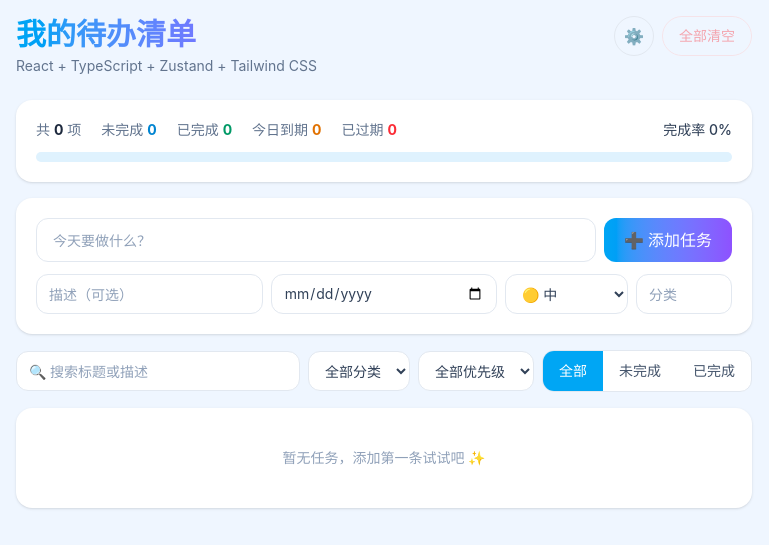
Test: App 主流程（规格 1/6） › 添加 → 勾选完成 → 统计与删除线联动
Type "买牛奶" into the field named "任务标题". click: (316, 240)
box: left=36, top=218, right=596, bottom=262
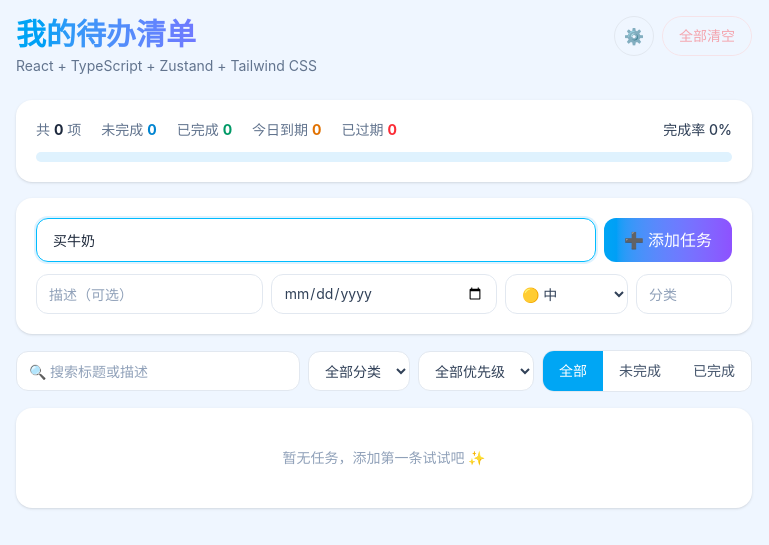
Click the button "➕ 添加任务". click: (668, 240)
box: left=604, top=218, right=732, bottom=262
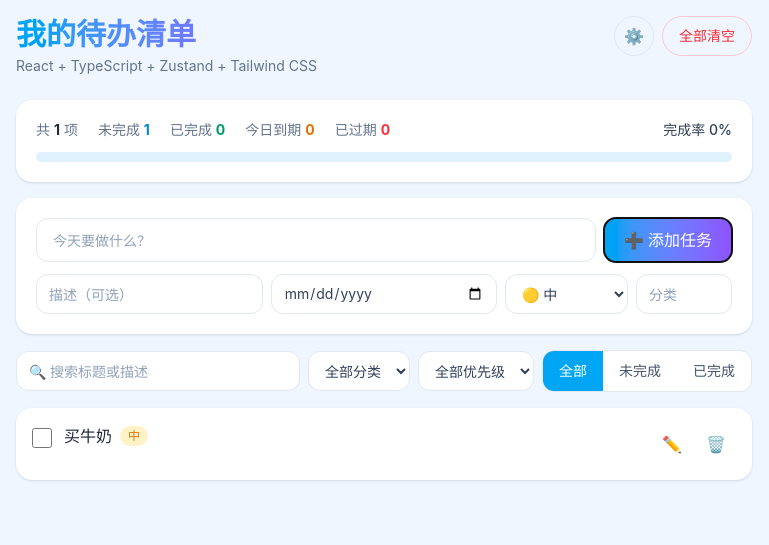
Expected: the heading "买牛奶" is shown, left=64, top=424, right=112, bottom=448
Expected: the text "共 1 项" is shown, left=36, top=120, right=78, bottom=140
Click the checkbox. click: (42, 438)
box: left=32, top=428, right=52, bottom=448
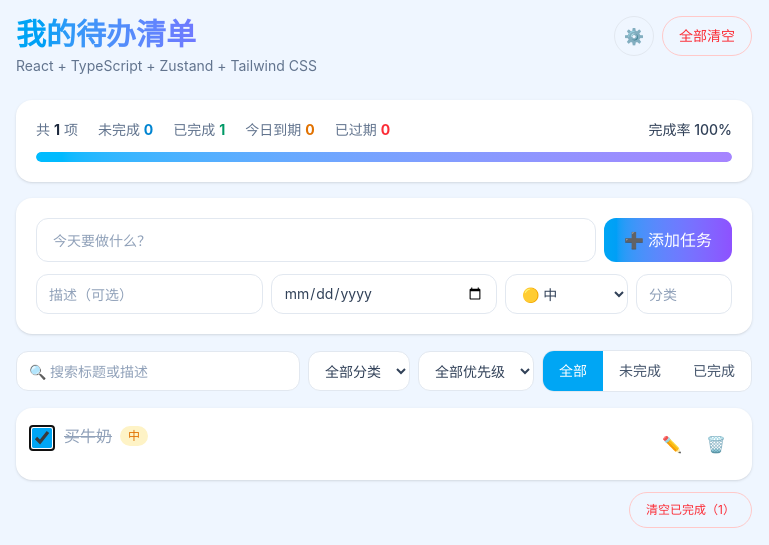
Expected: the text "完成率 100%" is shown, left=648, top=120, right=732, bottom=140
